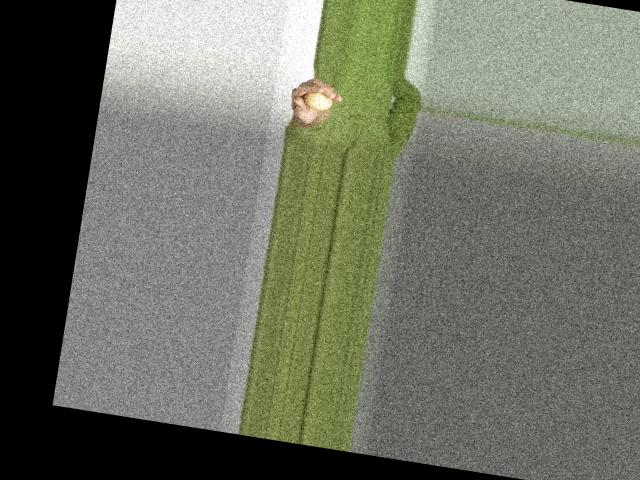egg: (302, 90, 334, 112)
